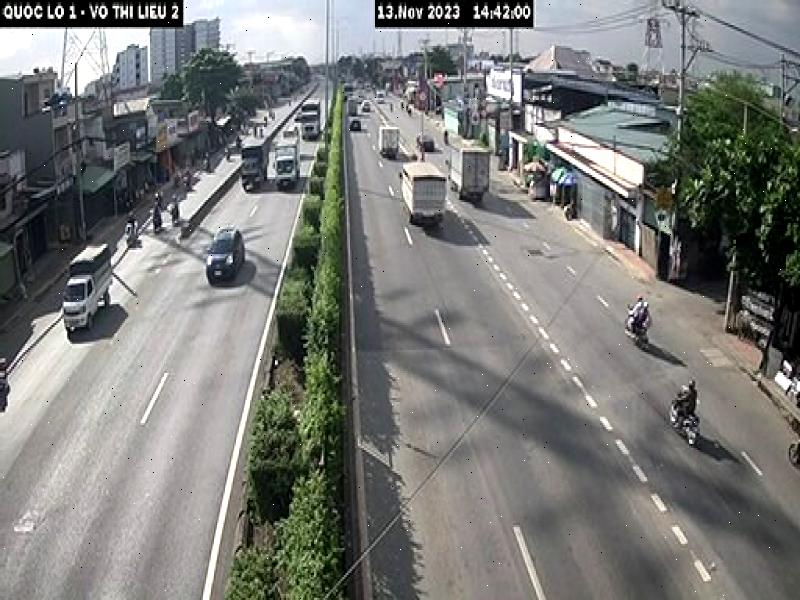truck: (59, 238, 116, 337)
